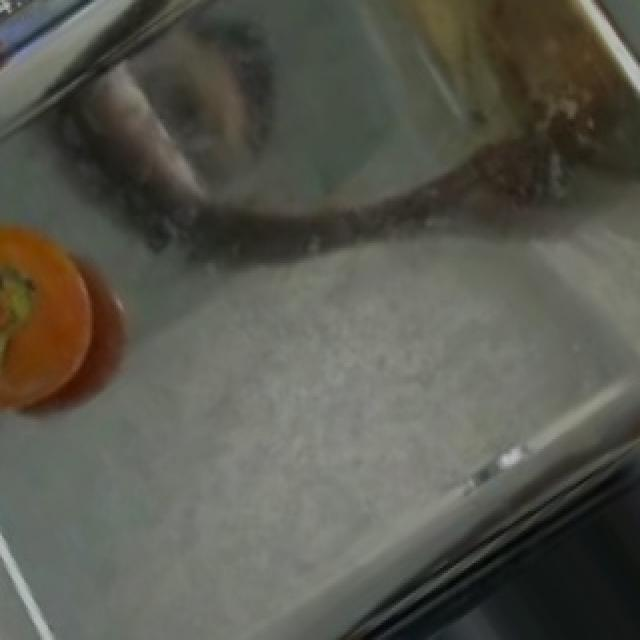Fruit: (0, 201, 122, 434)
